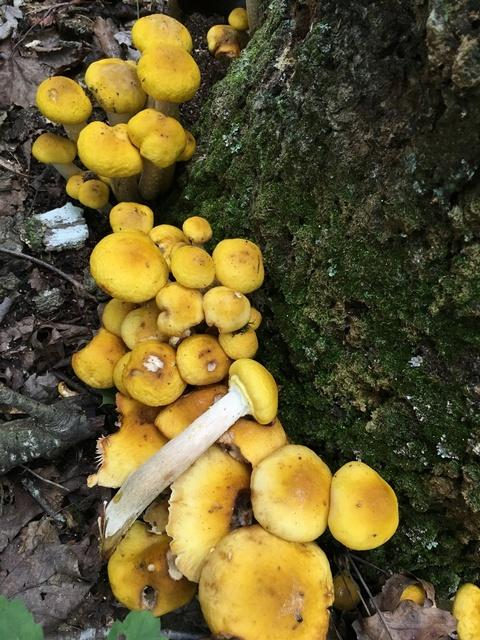Edible Mushroom: (31, 11, 400, 637)
